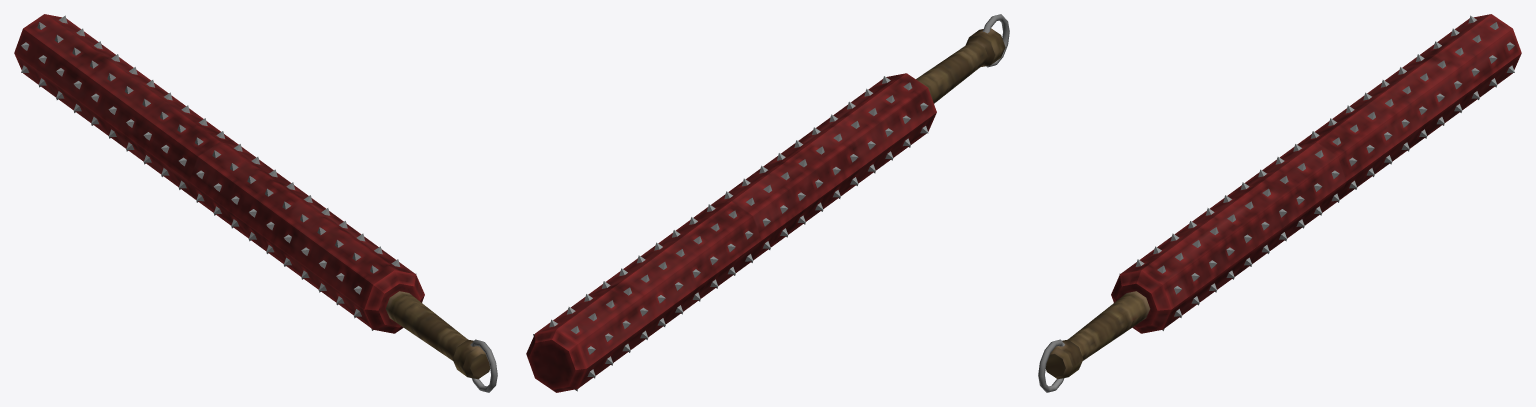
File: tetsubo.obj
3 views of the same model, side by side, from view 1: azimuth 30°, elevation 25°; view 2: azimuth 150°, elevation 25°; view 3: azimuth 330°, elevation 25° (orthographic).
Parts seen in each view (by area): view 1: tetsubo_Mesh; view 2: tetsubo_Mesh; view 3: tetsubo_Mesh.
Boxes of the visible parts, x1=… form: tetsubo_Mesh: x1=14, y1=14, x2=497, y2=392; tetsubo_Mesh: x1=526, y1=14, x2=1009, y2=392; tetsubo_Mesh: x1=1038, y1=14, x2=1521, y2=392.
Size of the model in its own units: 0.2077 by 0.2077 by 2.6.
